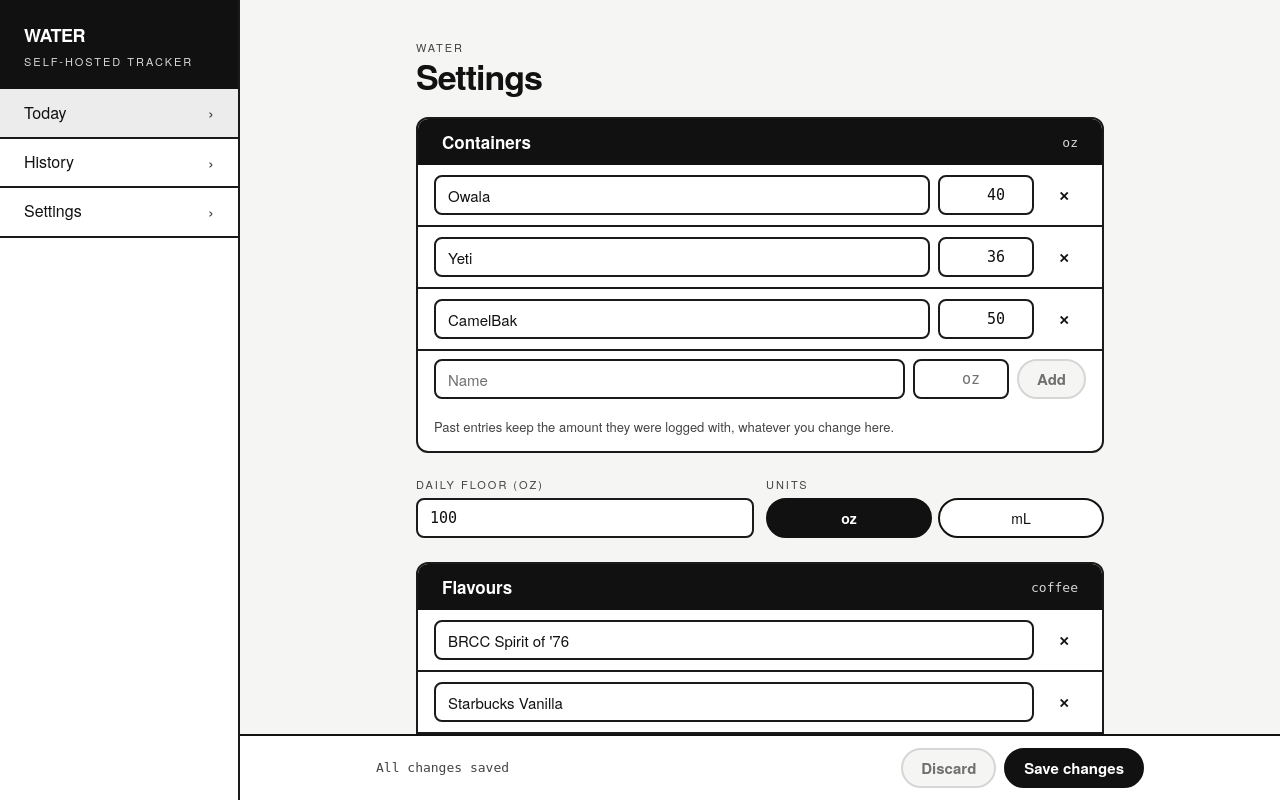
Test: Tracker › settings page blocks Save on an invalid draft
The image size is (1280, 800).
Clear the field named "Name of Yeti" at x=682, y=258, box [434,238,930,278]
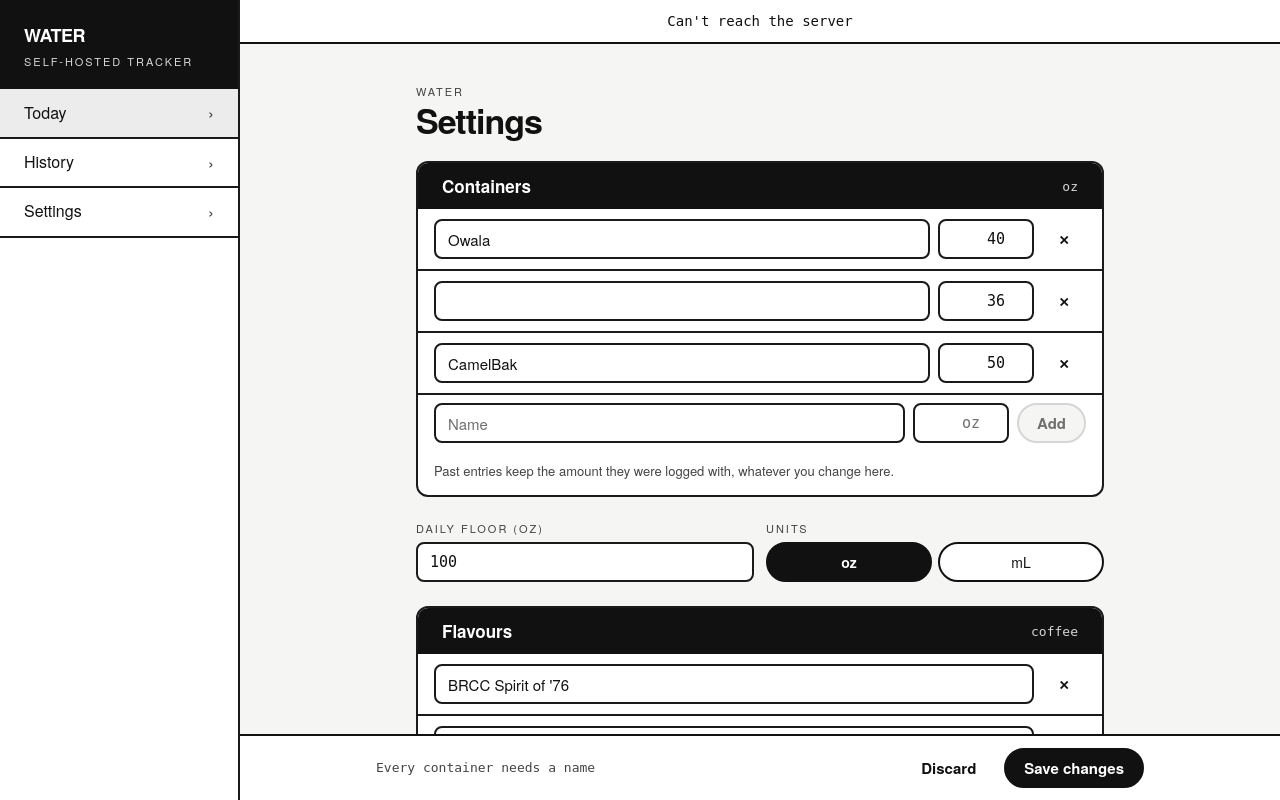
Check: the button "Save changes" is disabled, box [1004,748,1144,788]
Check: the text "Every container needs a name" is shown, box [376,760,595,774]
